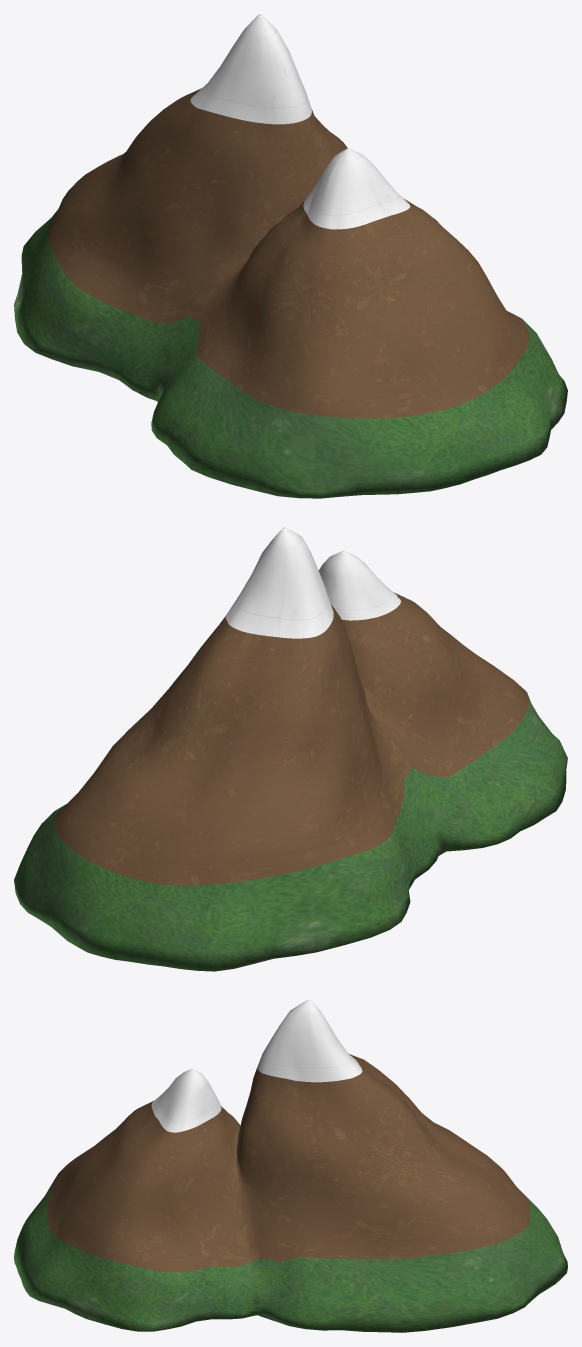
File: Double Mountain.fbx
3 views of the same model, one above another, from view 1: azimuth 30°, elevation 25°; view 2: azimuth 150°, elevation 25°; view 3: azimuth 270°, elevation 25° (orthographic). The views are drawn at different scales.
Visible parts, largest first — view 1: Double Mountain; view 2: Double Mountain; view 3: Double Mountain.
Boxes of the visible parts, box(x1,y1,x2,y2) form: Double Mountain: box(14, 14, 567, 498); Double Mountain: box(14, 527, 567, 971); Double Mountain: box(14, 1000, 567, 1332).
Size of the model in its own units: 220 by 187 by 364.
Materials: 1 (1 with a texture image).
